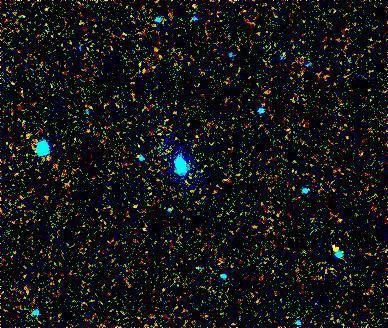star: (319, 237, 349, 267)
